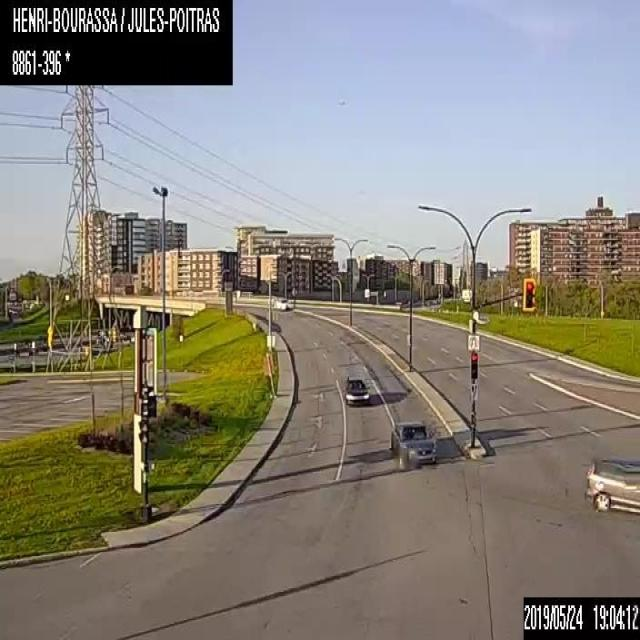vehicle: (582, 456, 639, 514), (389, 420, 436, 463), (344, 375, 370, 404), (274, 296, 292, 309)
